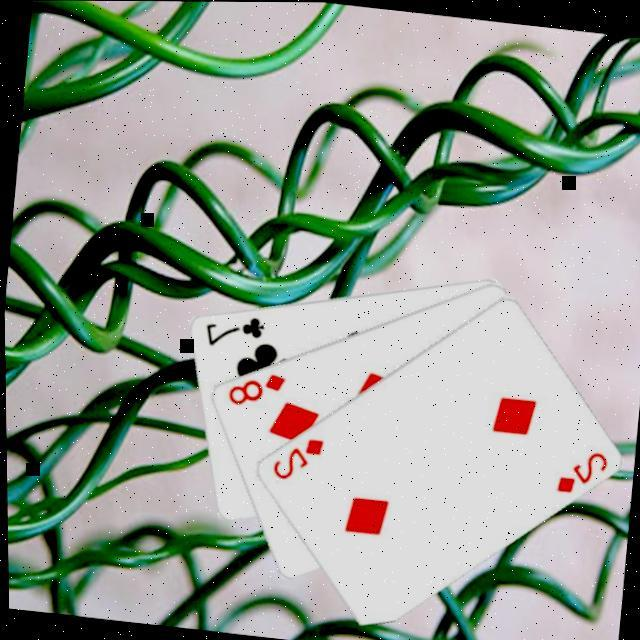2D: (552, 444, 612, 500), (268, 431, 328, 486)
7C: (200, 308, 270, 354)
8D: (222, 365, 290, 413)
